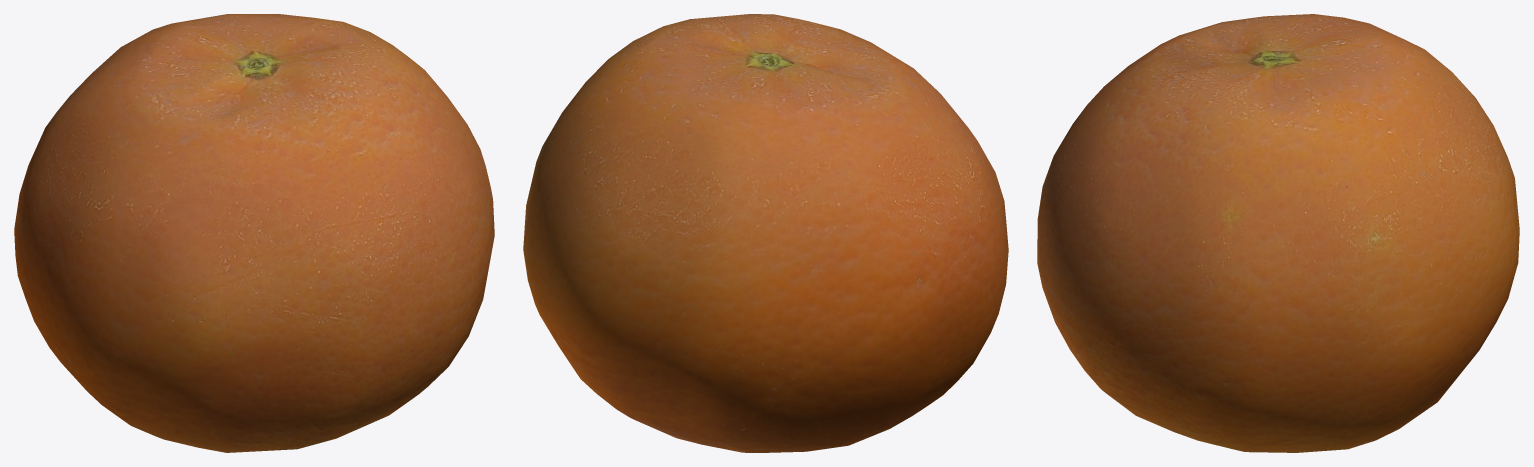
3 renders of one model, left to right at view 1: azimuth 30°, elevation 25°; view 2: azimuth 150°, elevation 25°; view 3: azimuth 270°, elevation 25°, orthographic. The views are drawn at different scales.
Visible parts, largest first — view 1: 33_mandarin; view 2: 33_mandarin; view 3: 33_mandarin.
Boxes of the visible parts, bbox=[...] form: 33_mandarin: bbox=[14, 14, 494, 452]; 33_mandarin: bbox=[523, 14, 1008, 452]; 33_mandarin: bbox=[1037, 14, 1519, 452].
Size of the model in its own units: 0.9983 by 0.8028 by 0.9845.
1 material, 1 textured.
